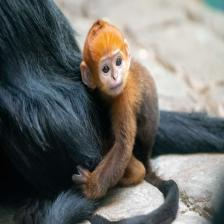monkey: (63, 6, 183, 224)
